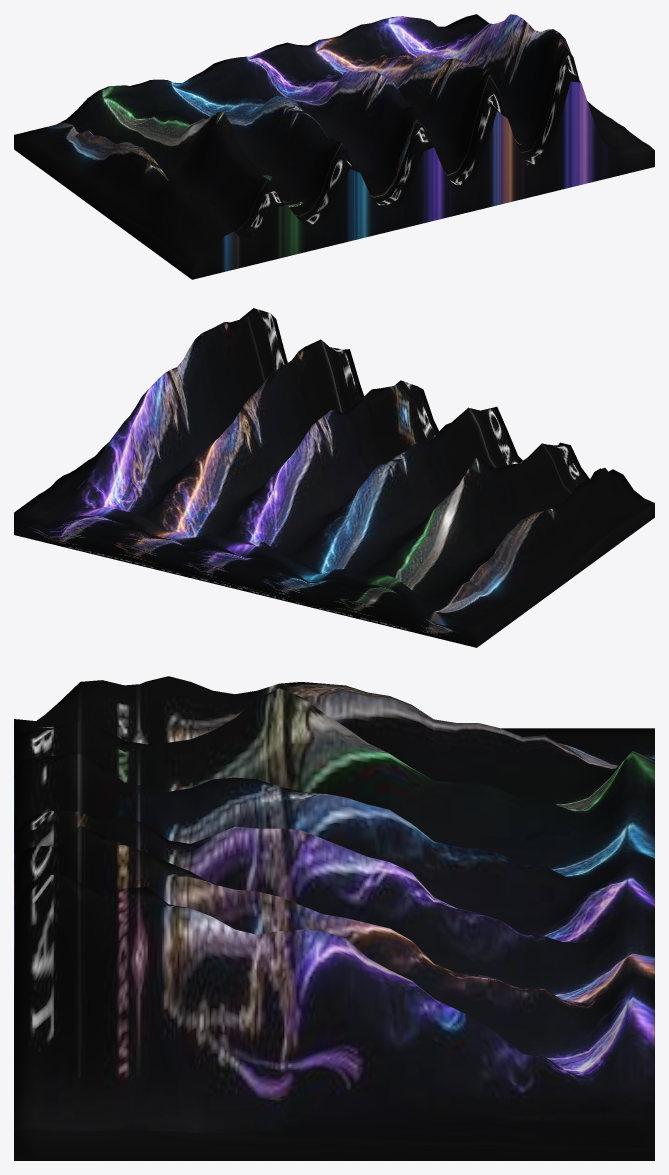
The model's file is ARSENAL_Saber_6Tier.glb.
3 views of the same model, one above another, from view 1: azimuth 30°, elevation 25°; view 2: azimuth 150°, elevation 25°; view 3: azimuth 270°, elevation 25° (orthographic). The views are drawn at different scales.
Visible parts, largest first — view 1: ARSENAL_Saber_6Tier; view 2: ARSENAL_Saber_6Tier; view 3: ARSENAL_Saber_6Tier.
Boxes of the visible parts, left/top/right/bottom form: ARSENAL_Saber_6Tier: left=14, top=14, right=654, bottom=279; ARSENAL_Saber_6Tier: left=14, top=308, right=654, bottom=647; ARSENAL_Saber_6Tier: left=14, top=676, right=654, bottom=1160.
Bounding box in the file's own units: 2 × 0.51 × 1.33.
Materials: 1 (1 with a texture image).
